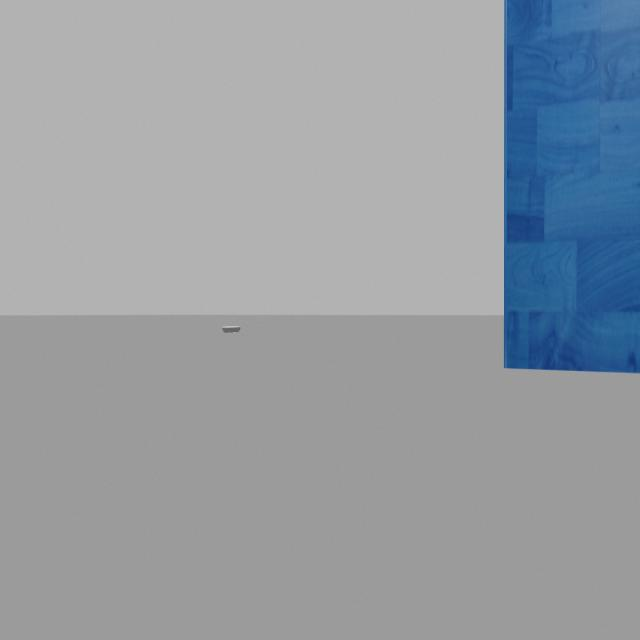bowl: (217, 319, 249, 341)
shelf: (485, 0, 640, 395)
